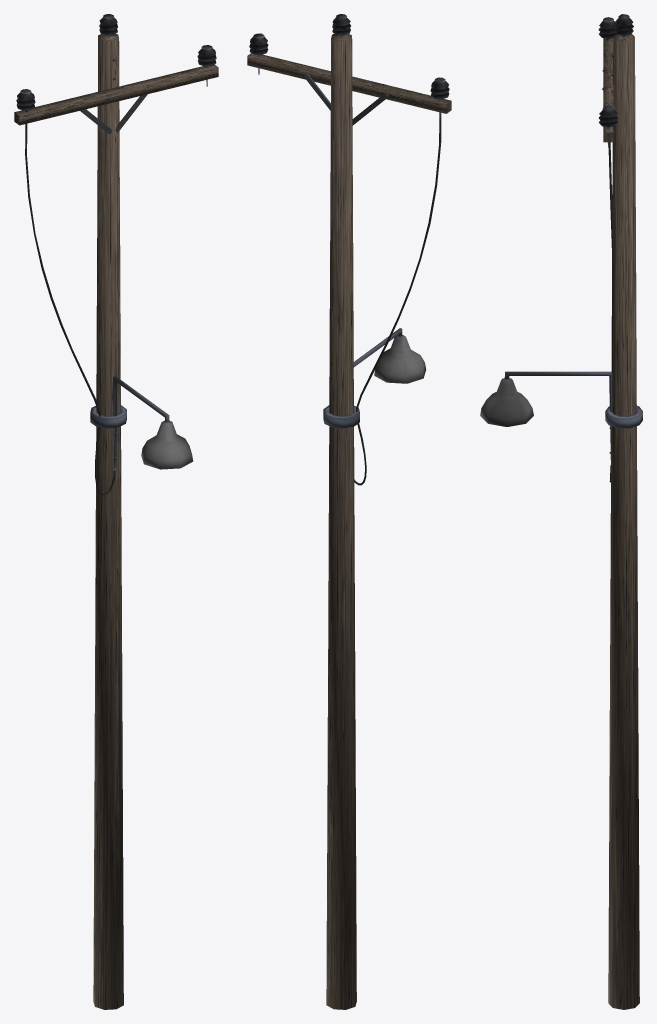
File: pole_wood_b_lod_1.glb
3 views of the same model, side by side, from view 1: azimuth 30°, elevation 25°; view 2: azimuth 150°, elevation 25°; view 3: azimuth 270°, elevation 25° (orthographic).
Parts seen in each view (by area): view 1: pole_wood_b_lod_1; view 2: pole_wood_b_lod_1; view 3: pole_wood_b_lod_1.
Boxes of the visible parts, x1,y1,x2,y2 form: pole_wood_b_lod_1: (14,14,218,1009); pole_wood_b_lod_1: (247,14,451,1009); pole_wood_b_lod_1: (480,14,642,1009).
Size of the model in its own units: 2.2 by 10.42 by 1.56.
Materials: 2 (2 with a texture image).
